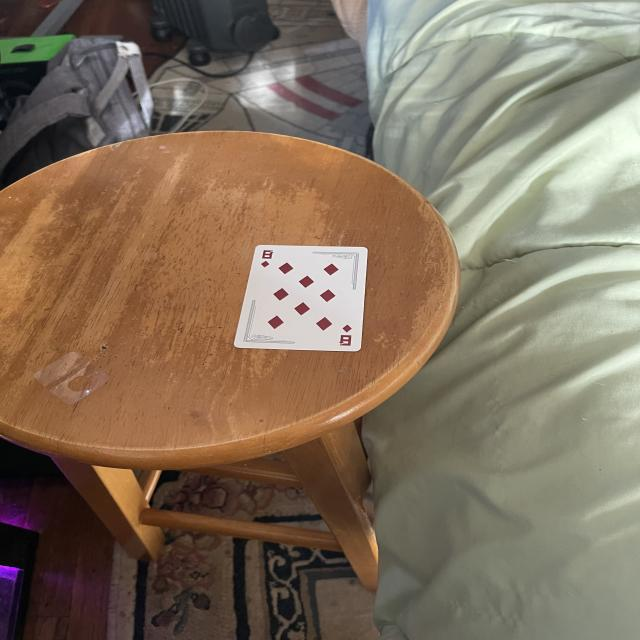8 of diamonds: (238, 245, 365, 352)
